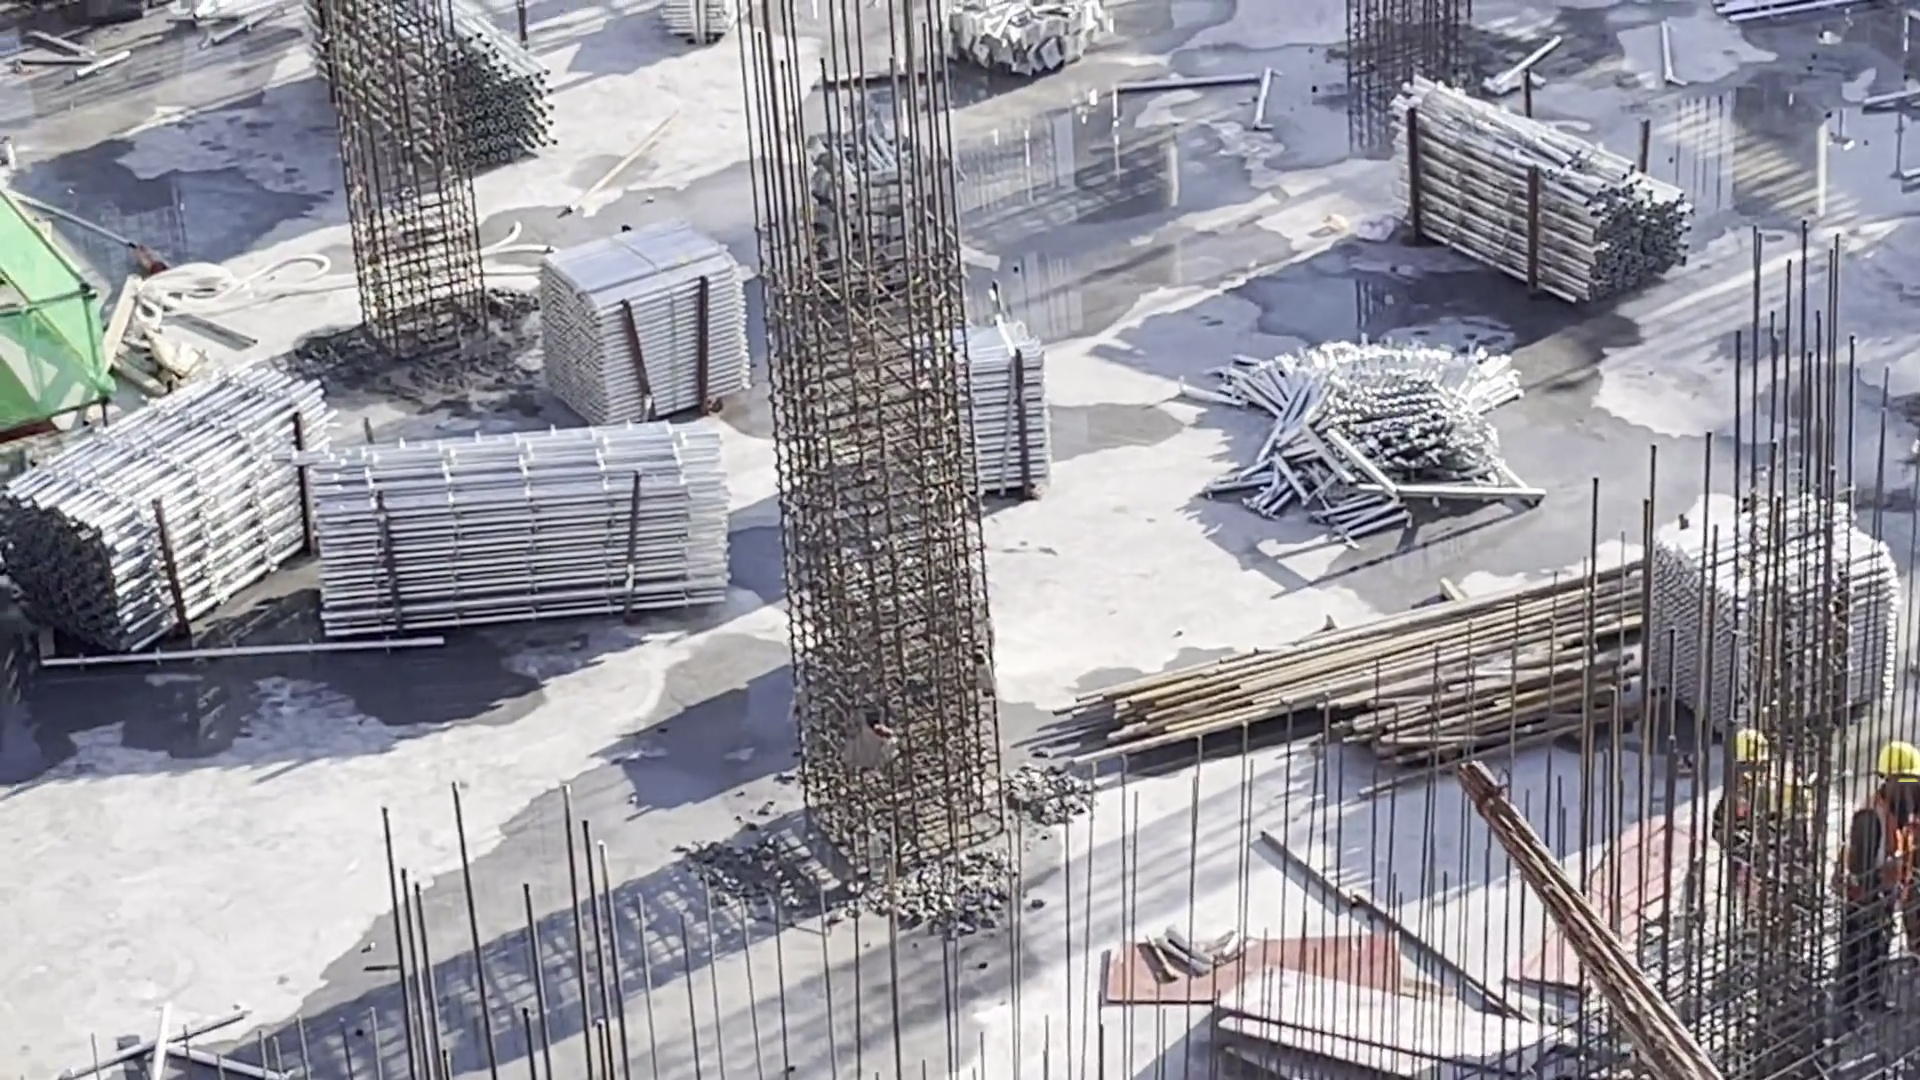board: (1222, 981, 1540, 1080)
helmet: (1875, 746, 1909, 784), (1729, 732, 1762, 761)
person: (1832, 741, 1920, 1023)
scaffold: (280, 443, 731, 597), (49, 369, 296, 604), (1413, 119, 1680, 297), (1264, 355, 1538, 527), (1660, 523, 1884, 732), (579, 244, 760, 419), (348, 1, 521, 168), (971, 340, 1064, 481)
vest: (1850, 796, 1906, 909)
